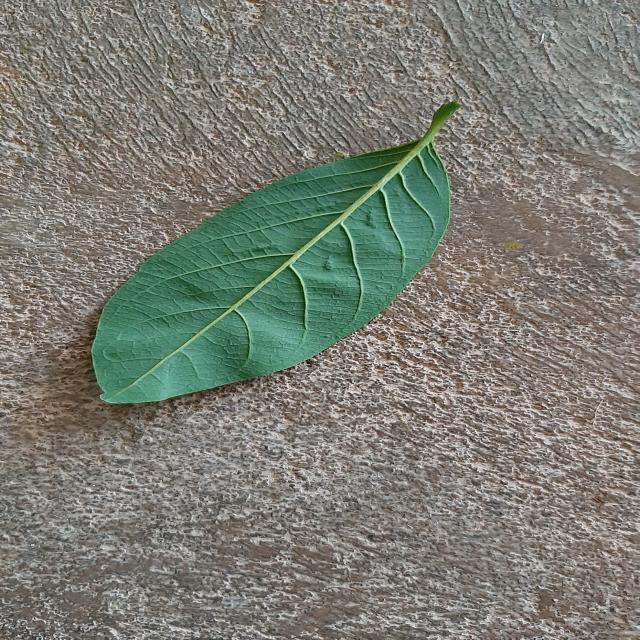seethaphala: (92, 102, 458, 404)
